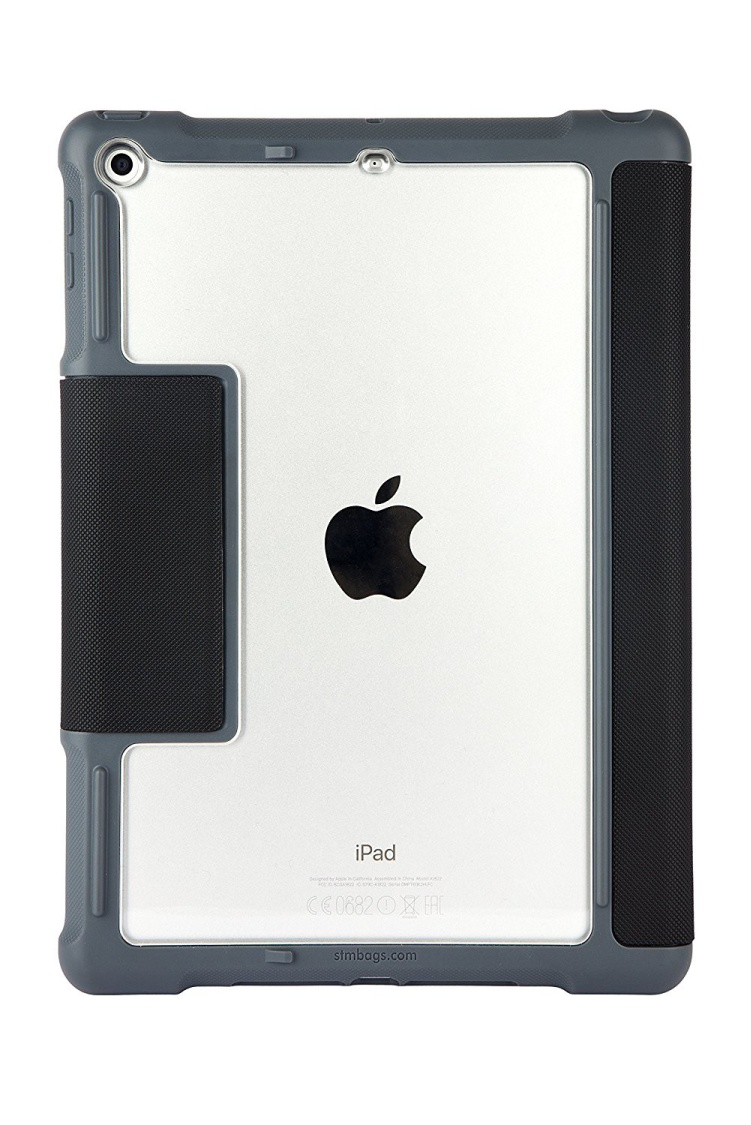apple: (317, 440, 467, 665)
